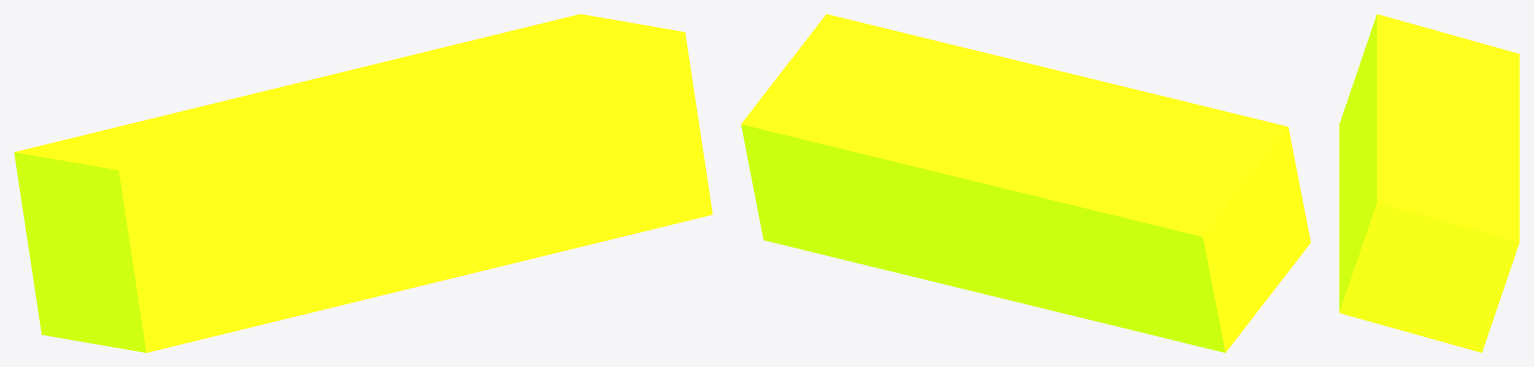
File: 737-hdg-sel-ind.glb
The picture shows the model from 3 angles, left to right: view 1: azimuth 30°, elevation 25°; view 2: azimuth 150°, elevation 25°; view 3: azimuth 270°, elevation 25°; orthographic projection. The views are drawn at different scales.
Visible parts, largest first — view 1: Box; view 2: Box; view 3: Box.
Part boxes in pixels (left/top/right/bottom): Box: left=14, top=14, right=712, bottom=352; Box: left=741, top=14, right=1310, bottom=352; Box: left=1339, top=14, right=1519, bottom=352.
Size of the model in its own units: 0.0146 by 0.00545 by 0.00592.
